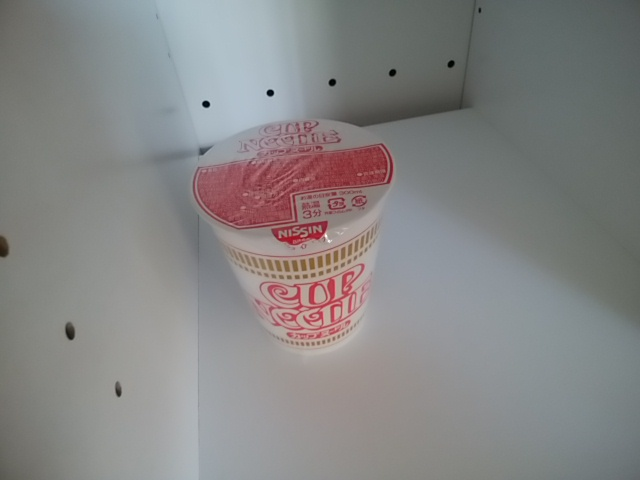cup-ramen: (190, 115, 402, 354)
